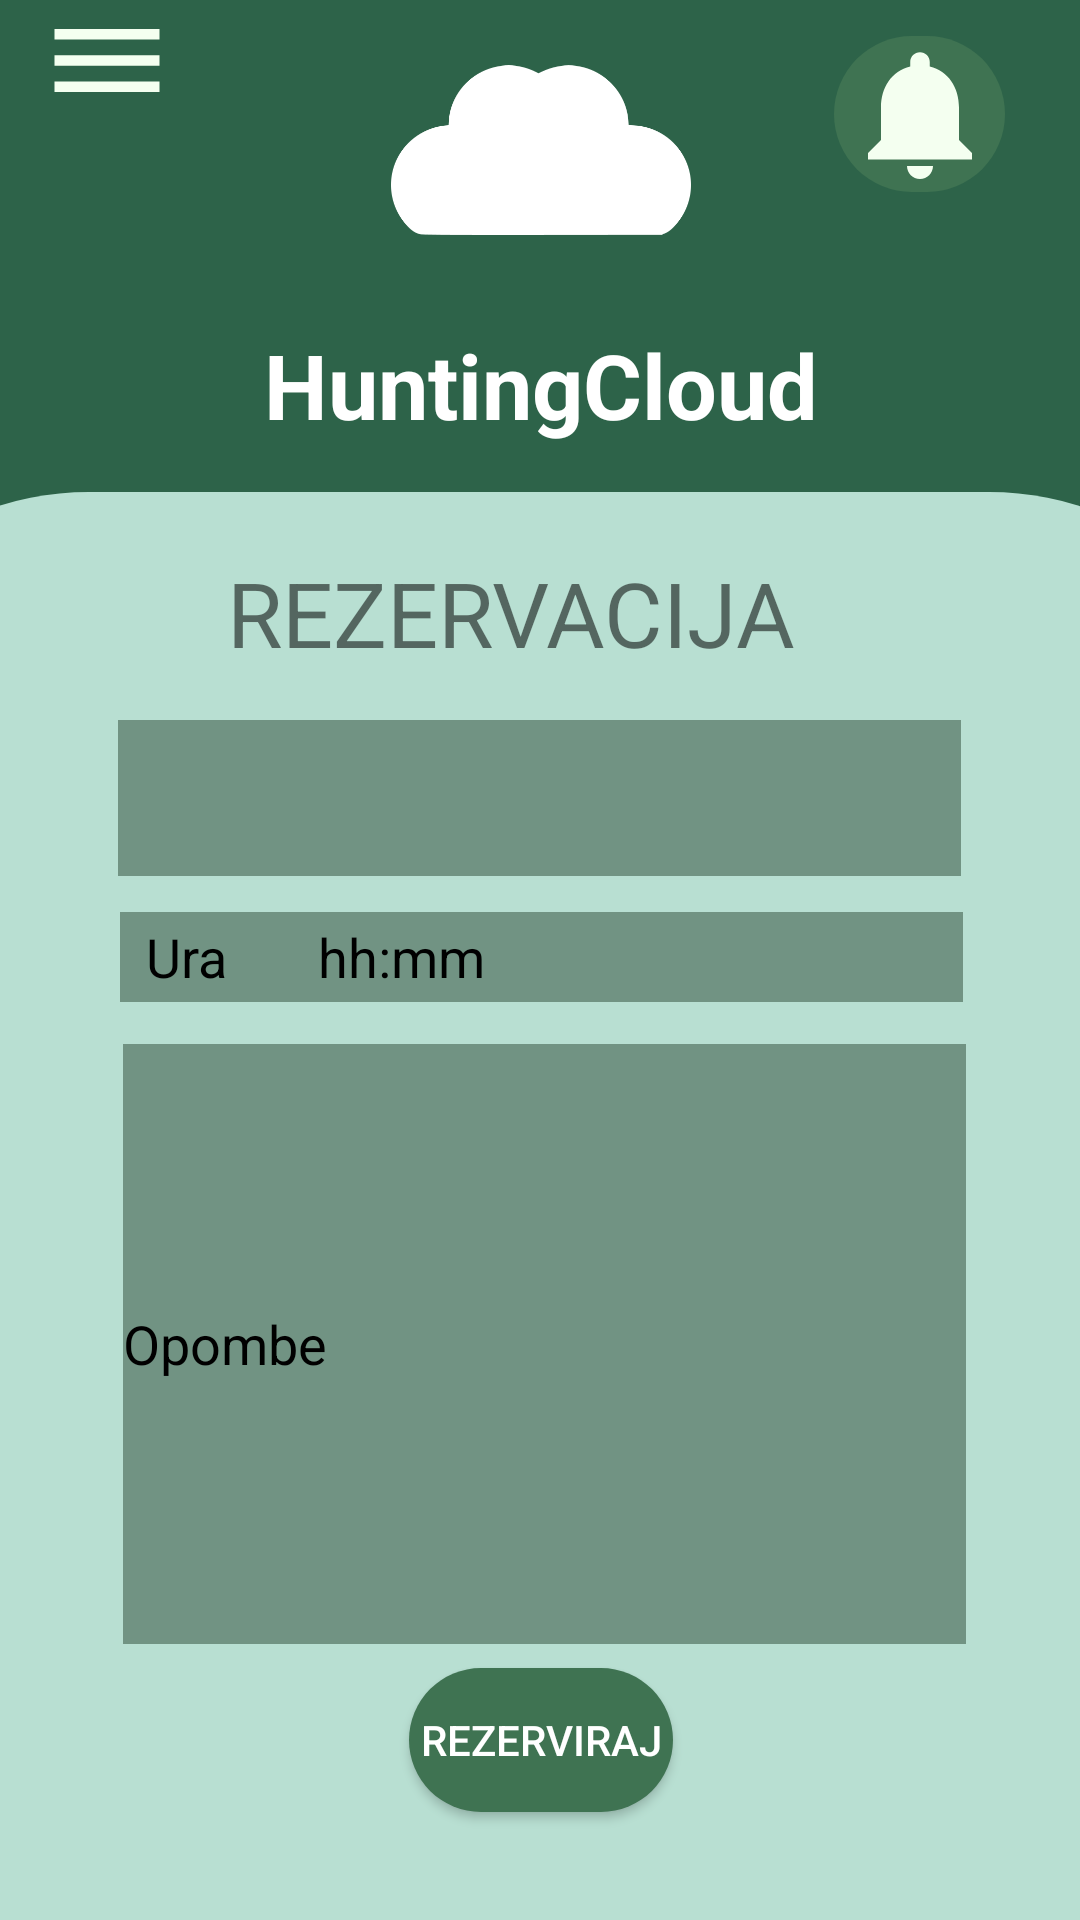

Icon click points for this 1080 × 1920 phone screenshot, format [x,y]:
menu: [107,60]
notifications: [920,115]
